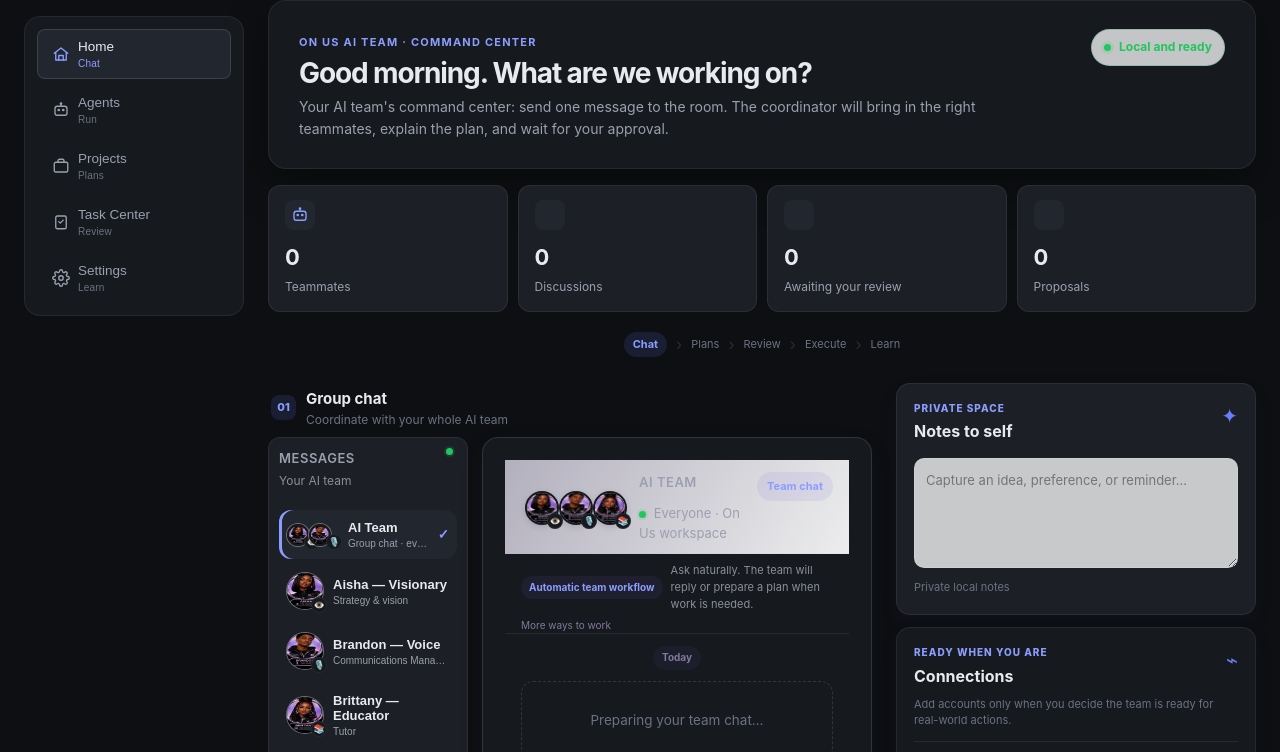
Scenario: Recent Failures › renders failure diagnostics
Click the button "Home Chat": (134, 54) [37,29,231,79]
(page scrolled)
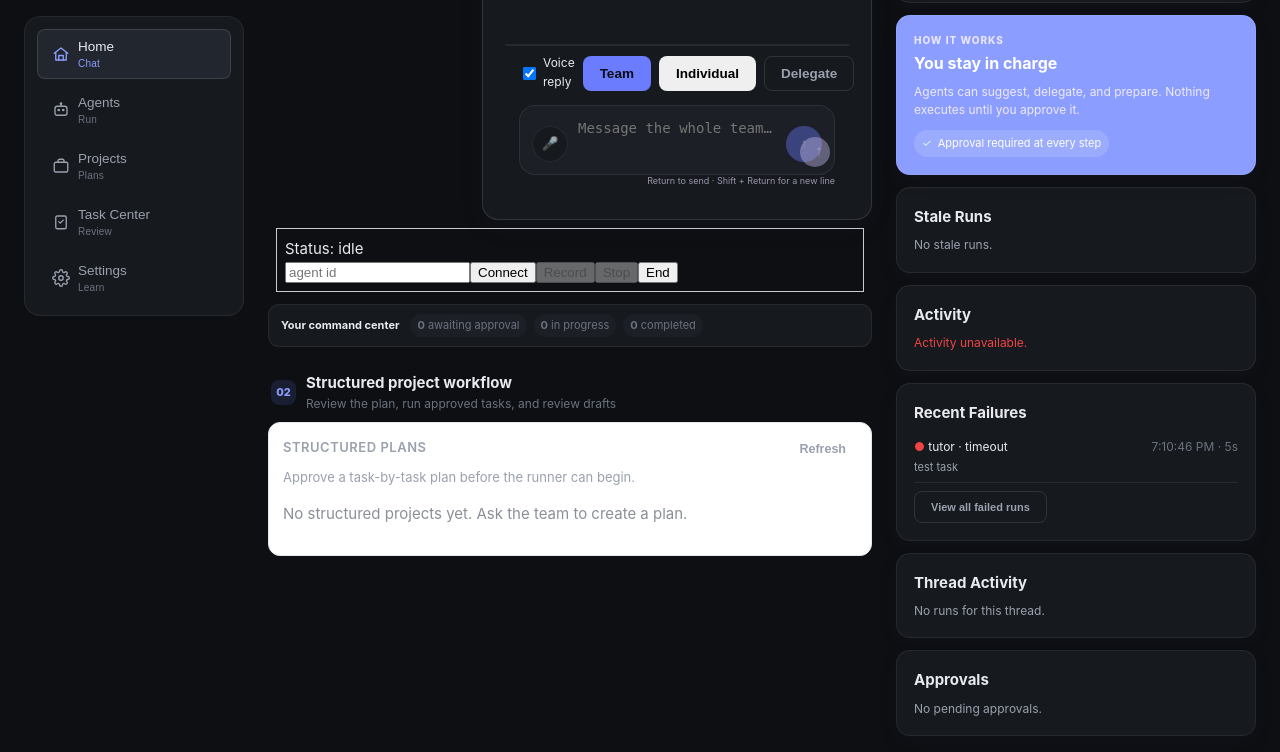
Expected: the text "● tutor · timeout" is shown, [914,438,1008,457]
